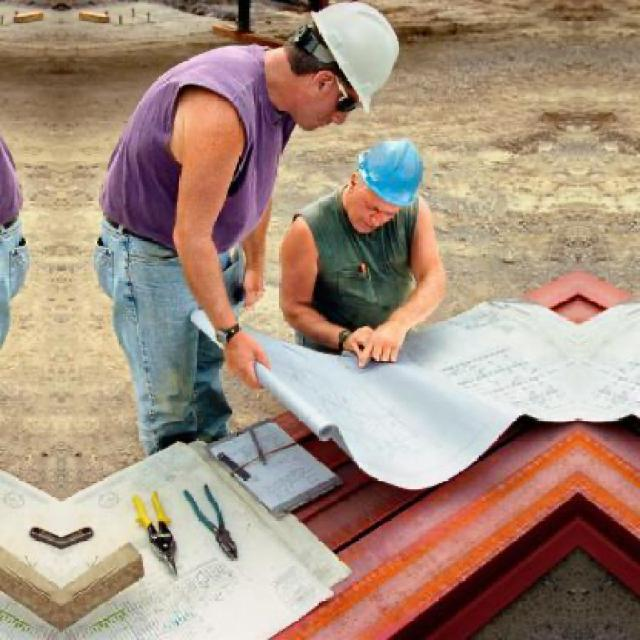con casco: (202, 0, 391, 155), (326, 135, 436, 256)
